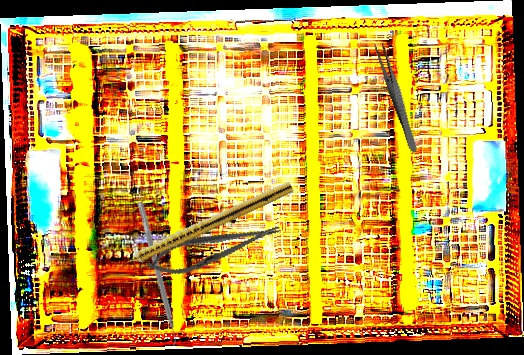Dressing Forceps: (372, 40, 422, 154)
Handpiece: (109, 177, 295, 275)
Needle Holder: (144, 213, 285, 284)
Spatula Surgical: (130, 201, 182, 348)
